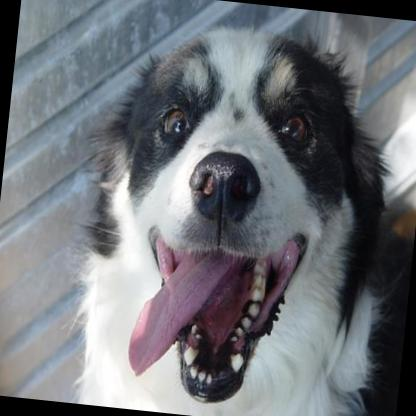Border_collie: (55, 5, 416, 416)
